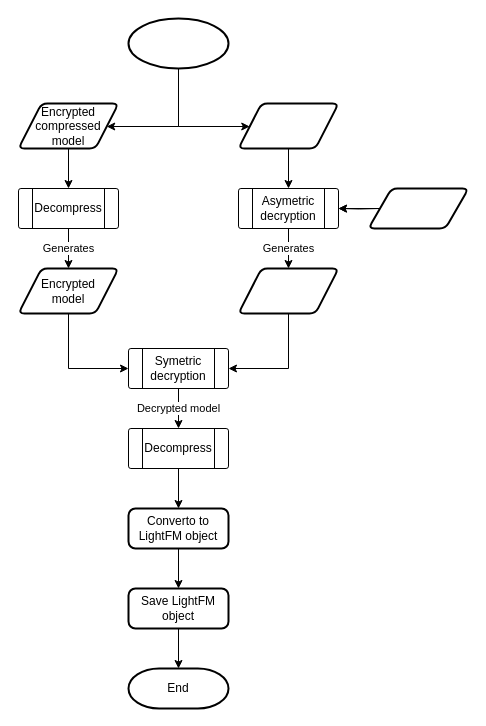
The diagram is 486 pixels wide and 726 high, and some of its shapes have lost their labels. Here are the shapes that lost their labels. From the top down, the centre of each, then its label:
At (178,43): "Start".
At (288,125): "Encrypted symetric key".
At (418,208): "Own private key".
At (288,290): "Symetric key".
